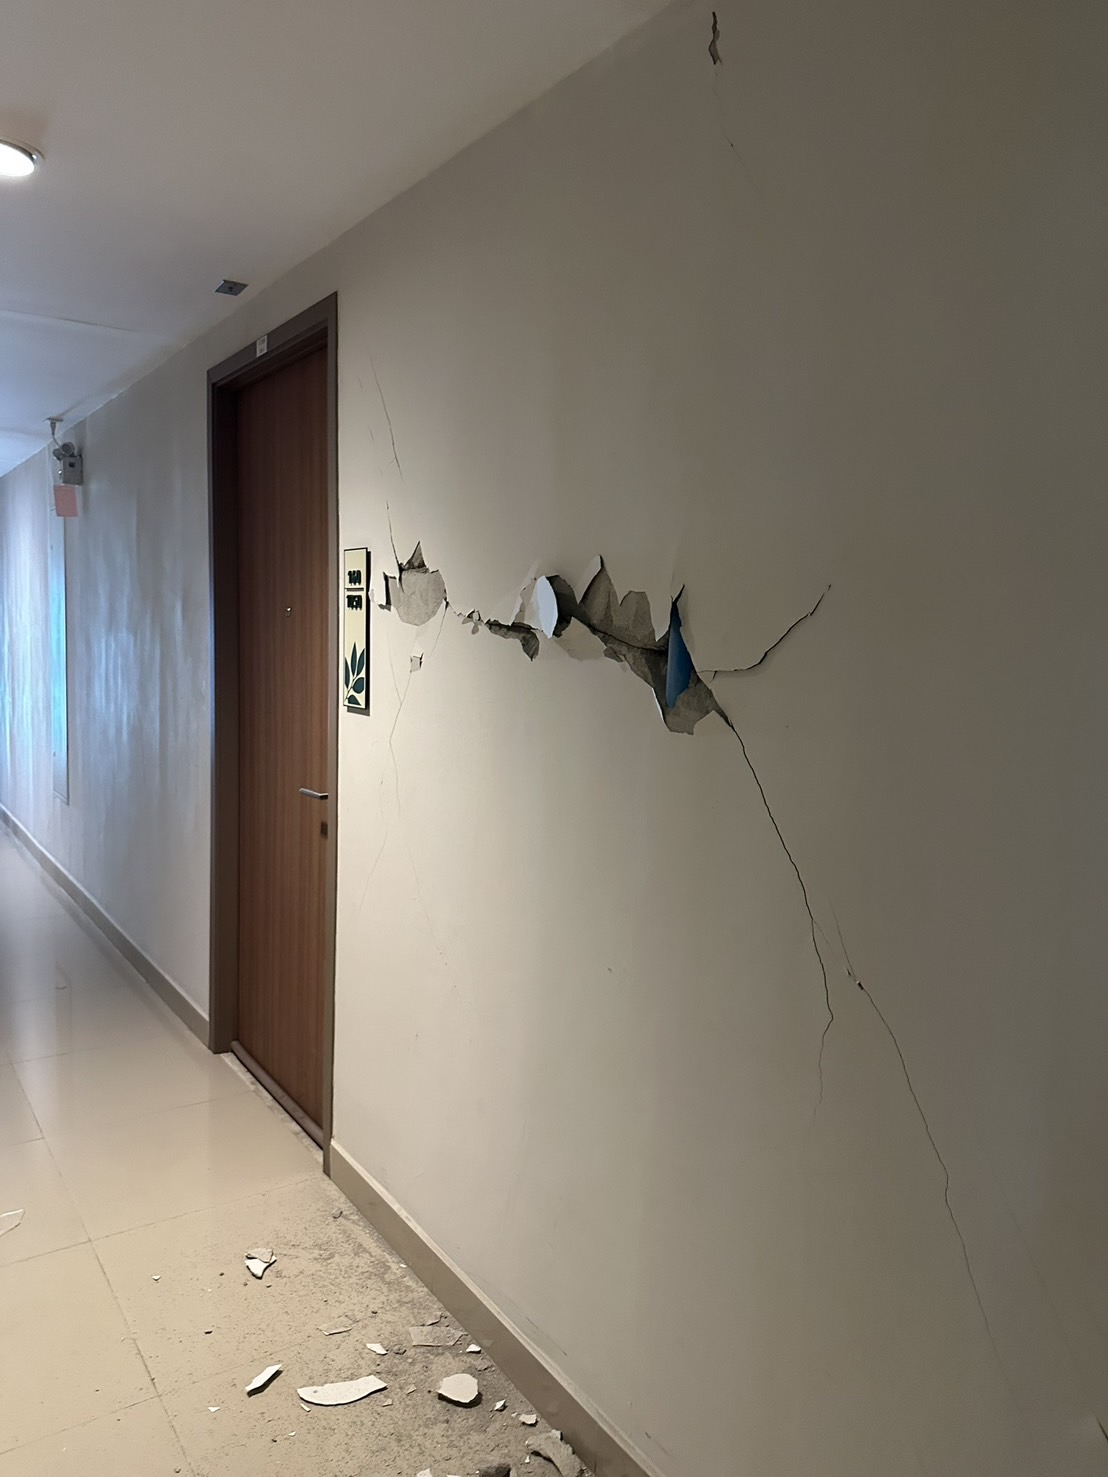Medium: (388, 537, 937, 914)
